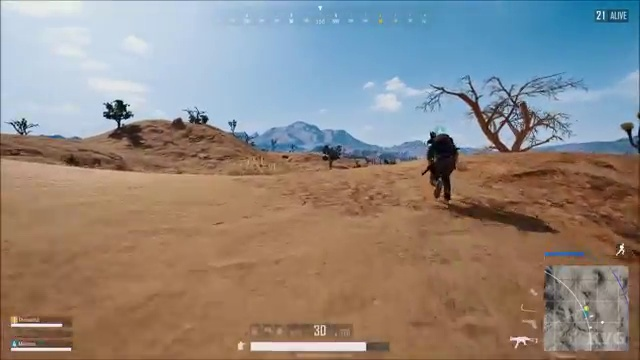Player: (400, 117, 490, 220)
